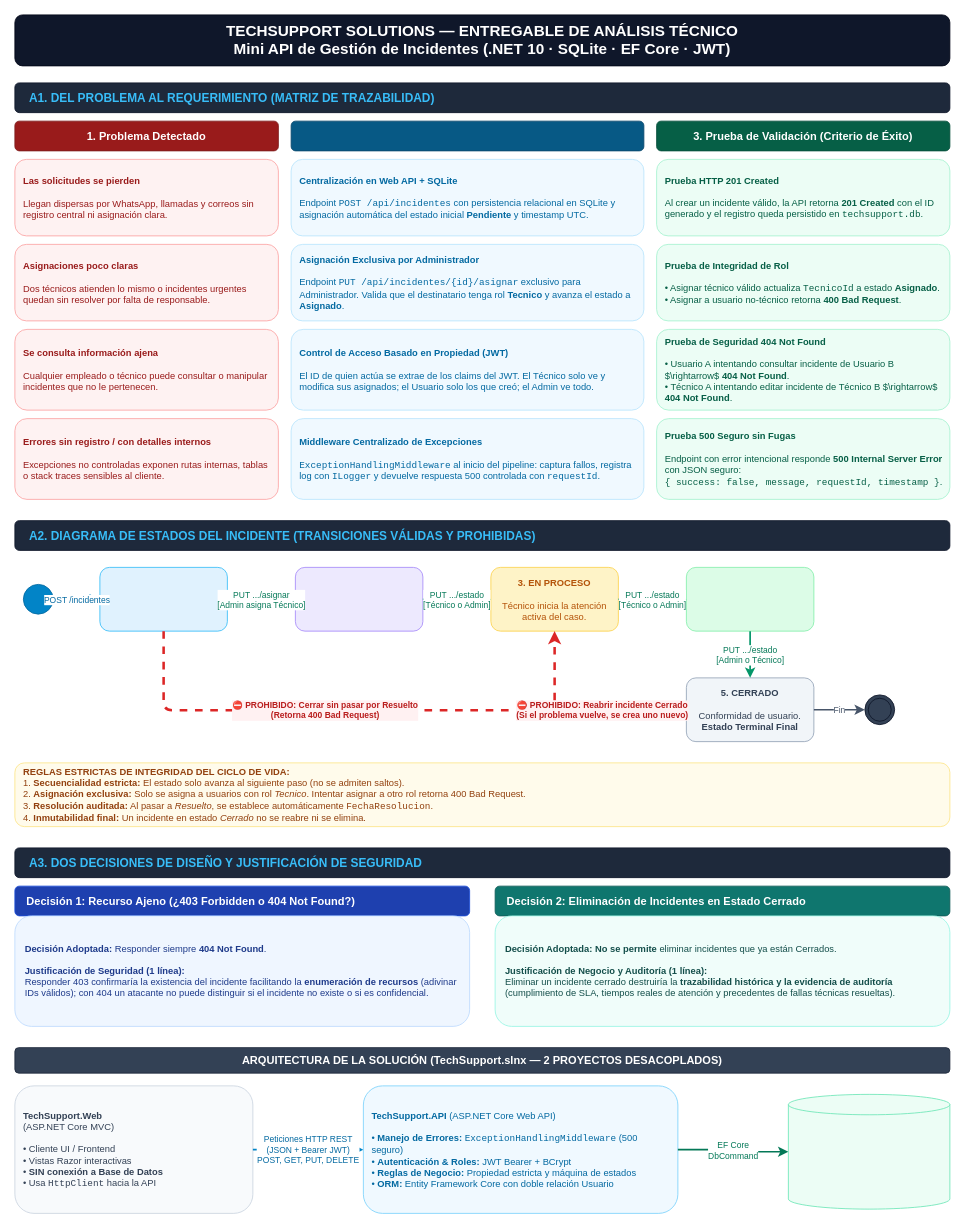
Image size: 965x1228. Some labels were removed from this diagram. Here are the shapes that lost their labels. From the top down, the centre of each, then its label:
the point at 467,135: 2. Requerimiento Técnico (Funcionalidad API)
the point at 163,599: 1. PENDIENTE Estado inicial al crear. TecnicoId = null
the point at 359,599: 2. ASIGNADO Técnico vinculado. TecnicoId = <id>
the point at 750,599: 4. RESUELTO Solución completada. FechaResolucion = UTC
the point at 869,1151: SQLite DB techsupport.db Tablas: • Usuarios • Incidentes
